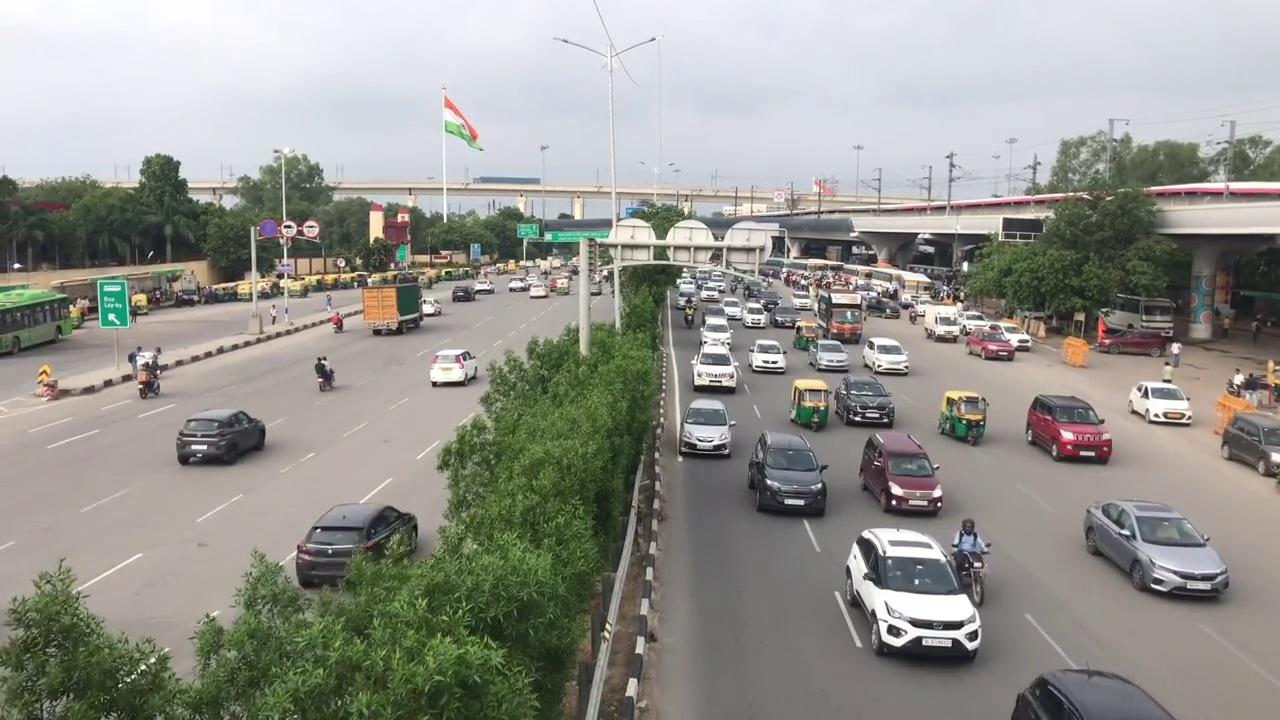Auto: (939, 388, 989, 447), (791, 374, 830, 432), (793, 318, 819, 351)
Bike: (949, 512, 990, 608)
Bus: (0, 286, 76, 357)
Car: (843, 524, 978, 660), (1084, 496, 1228, 597), (864, 428, 944, 516), (750, 430, 826, 516), (1028, 391, 1113, 464), (679, 394, 734, 459), (839, 370, 896, 428), (690, 340, 740, 391), (428, 346, 481, 387), (862, 336, 911, 377), (751, 334, 788, 374)
Truck: (363, 282, 424, 337), (817, 284, 863, 341), (924, 297, 964, 342)
